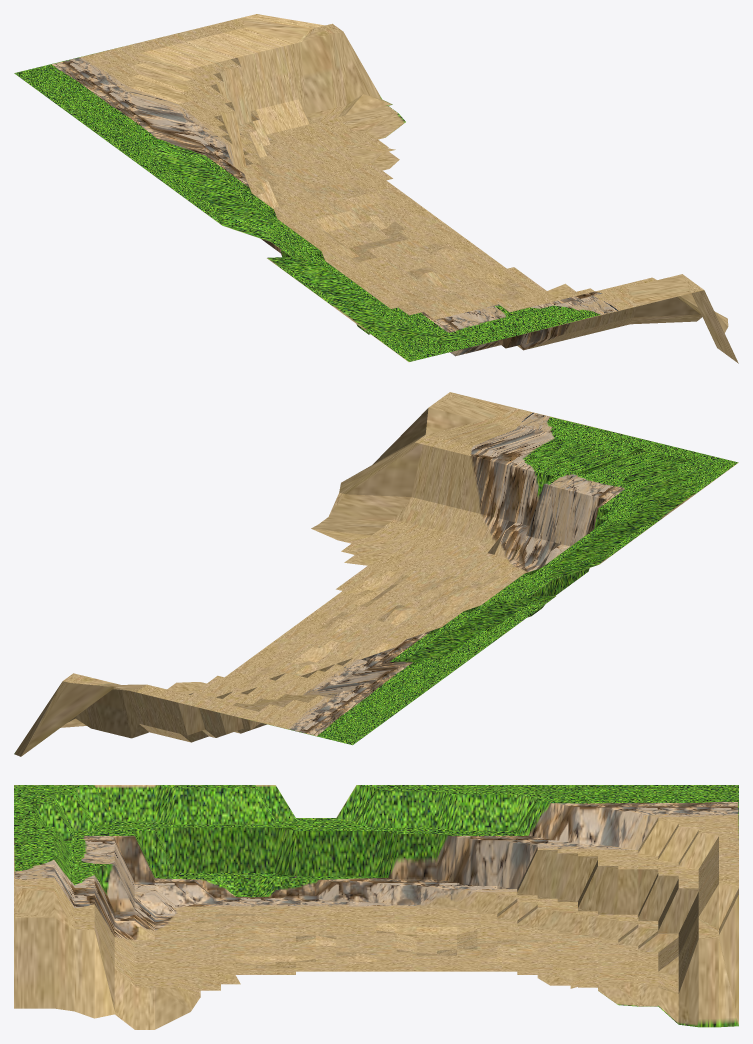
File: hill_2.obj
3 renders of one model, top to bottom at view 1: azimuth 30°, elevation 25°; view 2: azimuth 150°, elevation 25°; view 3: azimuth 270°, elevation 25°, orthographic. The views are drawn at different scales.
Visible parts, largest first — view 1: Hill_2_Grid.001; view 2: Hill_2_Grid.001; view 3: Hill_2_Grid.001.
Boxes of the visible parts, <box> form: Hill_2_Grid.001: <box>14,14,738,363</box>; Hill_2_Grid.001: <box>14,392,738,756</box>; Hill_2_Grid.001: <box>14,785,738,1029</box>.
Size of the model in its own units: 216 by 53.83 by 407.
Materials: 1 (1 with a texture image).
